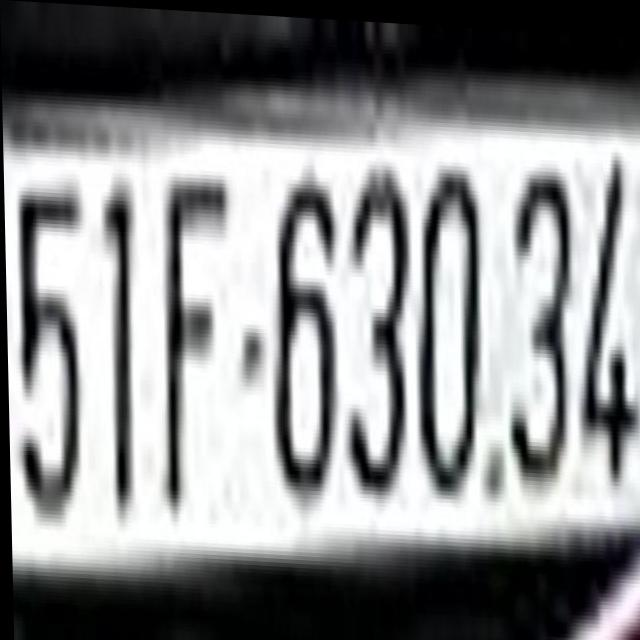0: (415, 155, 482, 511)
1: (101, 187, 135, 522)
3: (340, 144, 409, 504), (502, 147, 569, 488)
4: (576, 135, 640, 480)
5: (18, 167, 81, 512)
6: (268, 156, 338, 535)
F: (157, 151, 232, 503)
